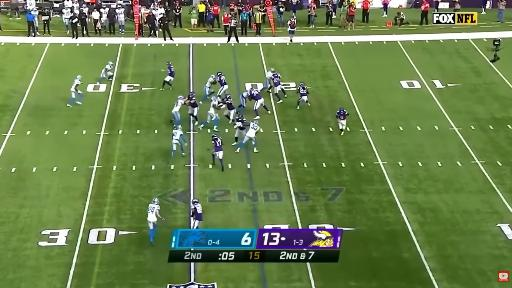Helmet: (191, 198, 199, 204), (152, 198, 159, 204), (211, 96, 218, 102), (237, 115, 243, 121), (189, 91, 195, 97), (339, 107, 345, 112), (176, 125, 182, 130), (226, 94, 231, 99), (167, 61, 172, 66), (273, 72, 278, 76), (253, 120, 258, 124), (212, 134, 217, 138), (117, 4, 121, 8), (77, 75, 81, 79), (250, 88, 254, 92), (178, 96, 183, 99), (108, 62, 113, 65), (217, 72, 222, 75), (300, 83, 305, 86), (271, 68, 274, 72), (211, 75, 215, 78), (83, 4, 86, 7)
Jersey: (191, 203, 202, 221), (148, 204, 159, 222), (246, 122, 259, 137), (208, 98, 218, 114), (172, 99, 184, 111), (223, 98, 235, 110), (212, 137, 222, 151), (100, 7, 109, 22), (205, 76, 216, 88), (101, 64, 112, 76), (71, 79, 81, 92), (272, 72, 281, 86), (235, 119, 246, 130), (250, 89, 261, 100), (336, 110, 348, 120), (116, 8, 125, 21), (188, 96, 198, 107), (217, 75, 227, 86), (298, 86, 308, 97), (173, 130, 182, 141), (63, 8, 71, 19), (167, 65, 174, 77), (242, 91, 249, 100), (82, 6, 88, 14), (267, 71, 272, 79)
Player: (147, 198, 163, 244), (236, 121, 259, 152), (199, 97, 219, 131), (250, 89, 270, 119), (67, 76, 83, 106), (232, 116, 248, 145), (200, 75, 216, 103), (272, 72, 286, 103), (172, 125, 186, 156), (172, 95, 185, 127), (212, 134, 223, 171), (186, 92, 198, 125), (335, 107, 349, 135), (160, 62, 174, 90), (222, 94, 235, 123), (237, 89, 250, 115), (297, 83, 310, 109), (97, 62, 113, 83), (191, 199, 202, 228), (217, 72, 228, 97), (116, 4, 125, 34), (62, 7, 72, 33), (266, 68, 275, 93), (31, 7, 39, 35)
